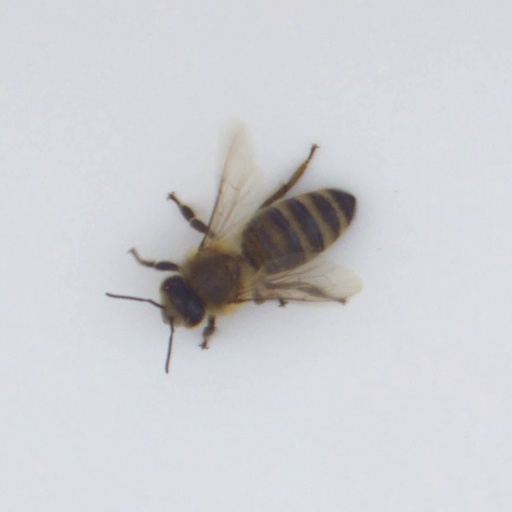Bee: (125, 169, 384, 348)
Thorax: (180, 244, 246, 313)
